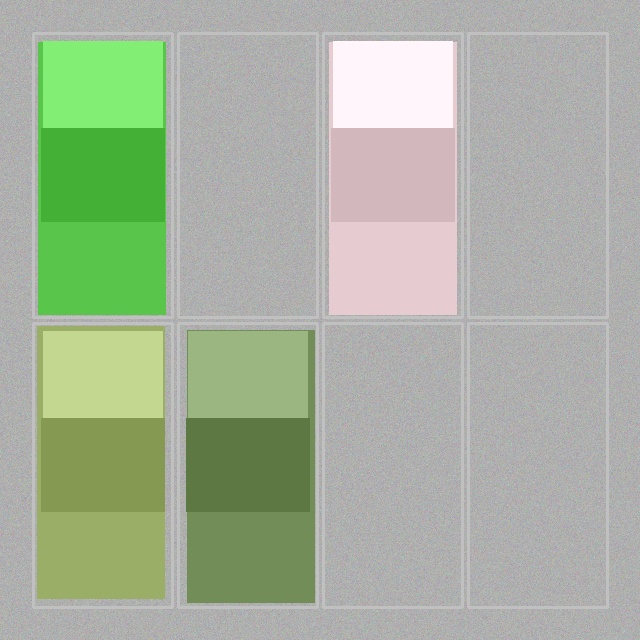space-empty: (180, 35, 315, 315), (470, 35, 605, 315), (325, 325, 460, 605), (470, 325, 605, 605)
space-occupied: (35, 35, 170, 315), (325, 35, 460, 315), (35, 325, 170, 605), (180, 325, 315, 605)
